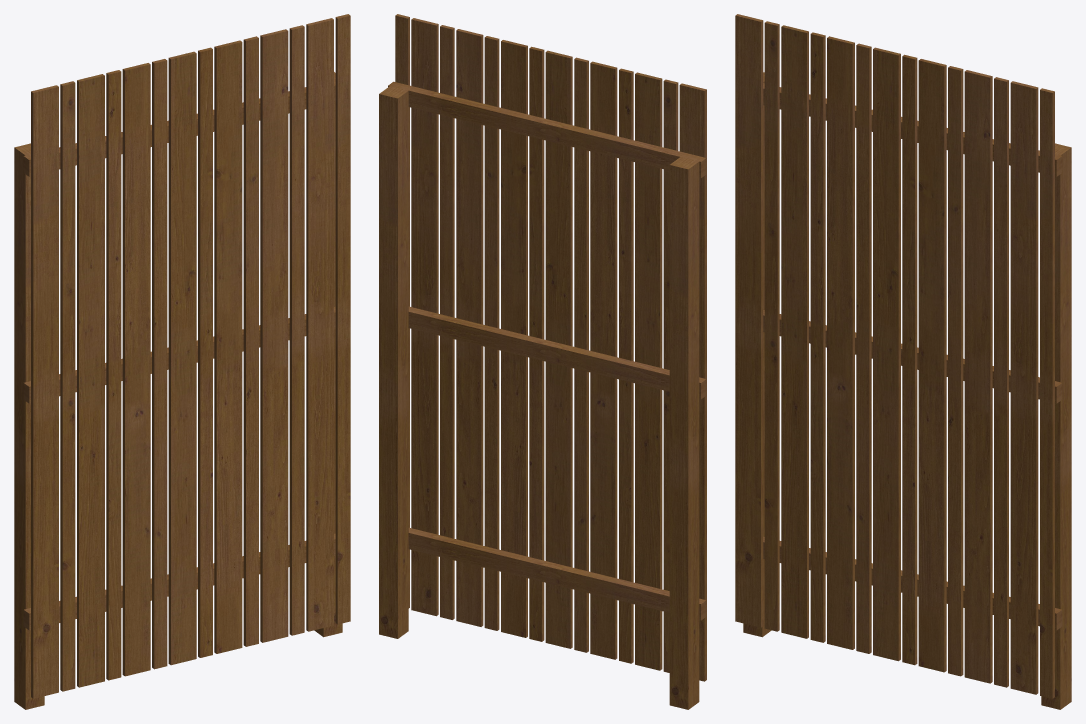
File: tatehari80-40_h1800_naturalpine.fbx
The picture shows the model from 3 angles, left to right: view 1: azimuth 30°, elevation 25°; view 2: azimuth 150°, elevation 25°; view 3: azimuth 330°, elevation 25°; orthographic projection. The views are drawn at different scales.
Visible parts, largest first — view 1: tatehari80-40_h1800_naturalpine; view 2: tatehari80-40_h1800_naturalpine; view 3: tatehari80-40_h1800_naturalpine.
Part boxes in pixels (<box>): tatehari80-40_h1800_naturalpine: <box>14,14,350,709</box>; tatehari80-40_h1800_naturalpine: <box>379,14,706,709</box>; tatehari80-40_h1800_naturalpine: <box>735,14,1071,709</box>.
Size of the model in its own units: 100 by 185 by 10.2.
1 material, 1 textured.
